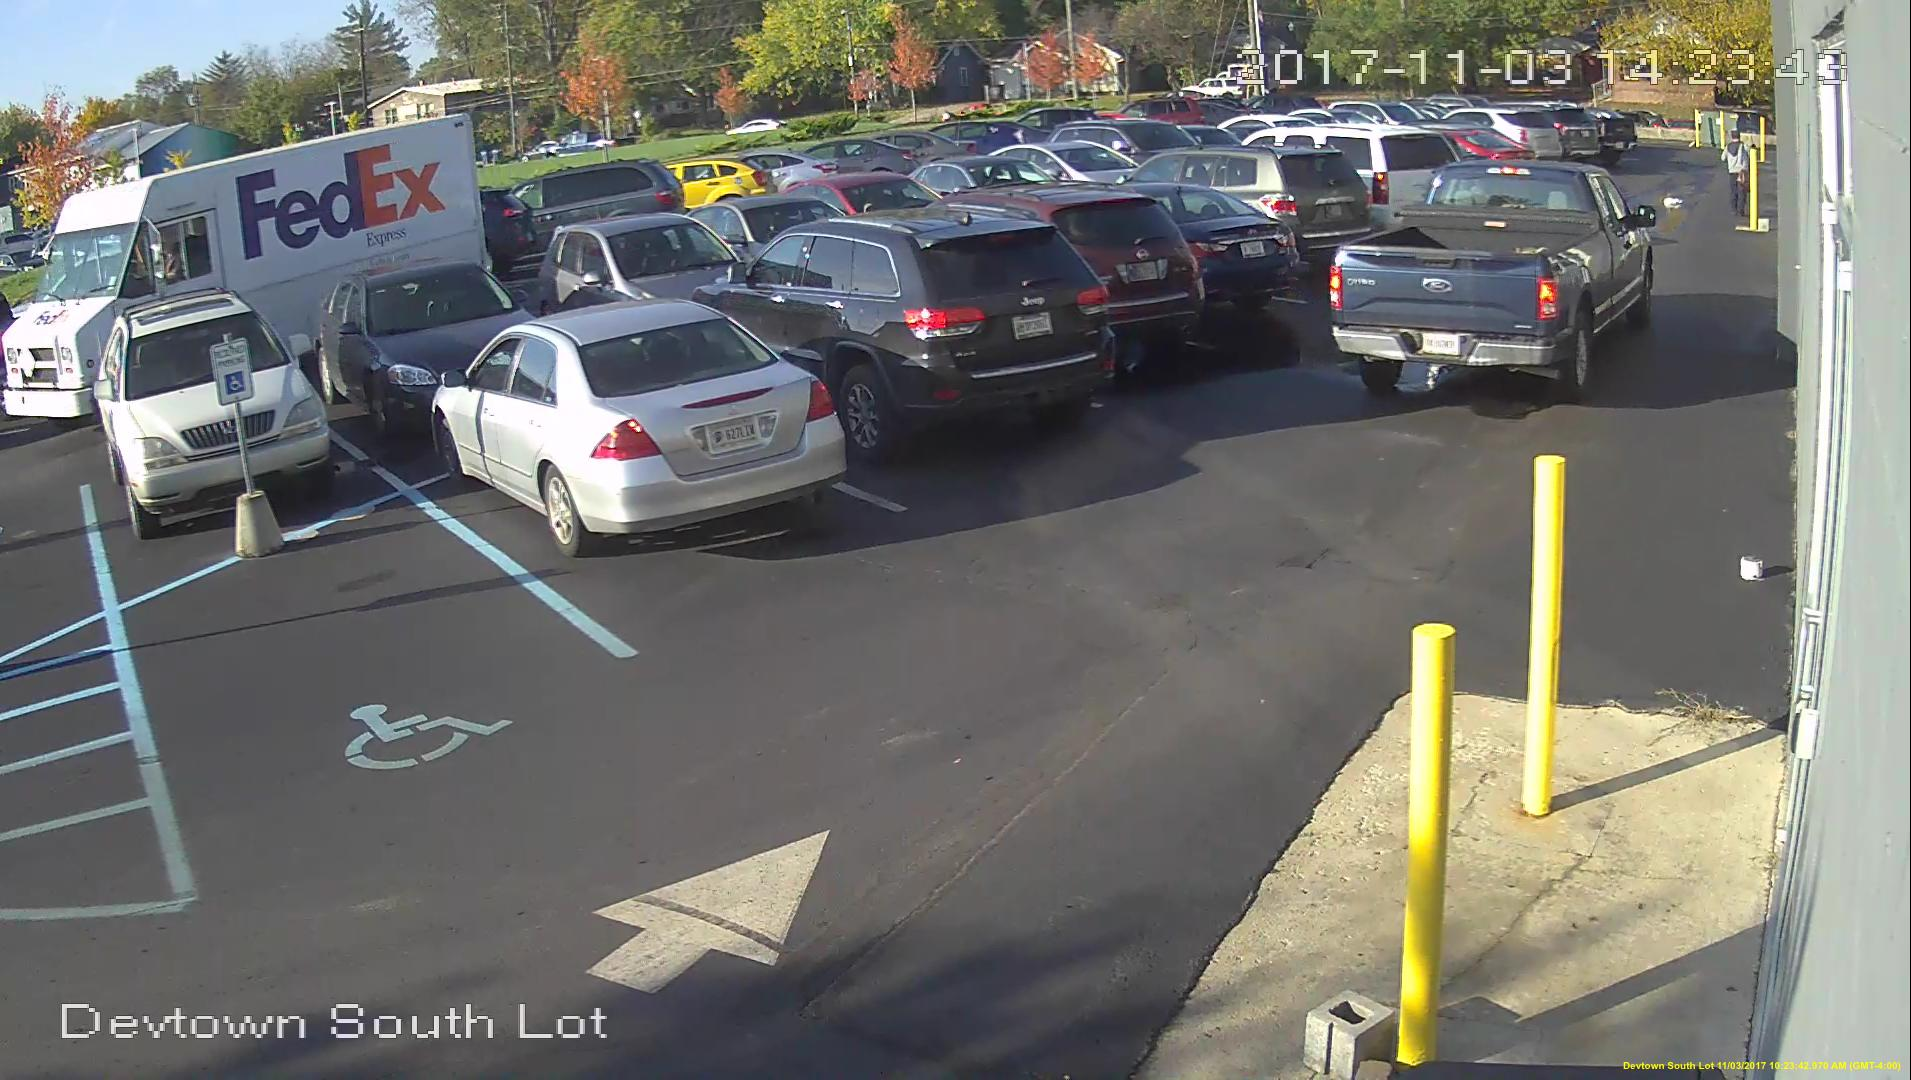fedex_truck: (1, 112, 490, 419)
